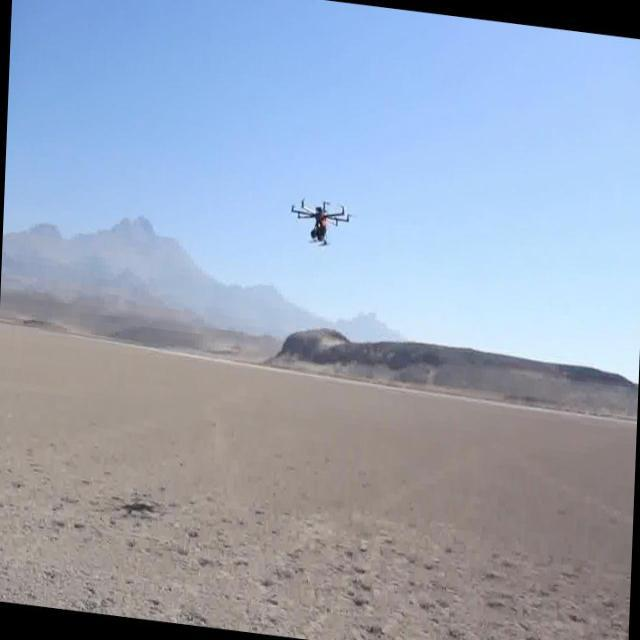drone: (285, 190, 355, 252)
